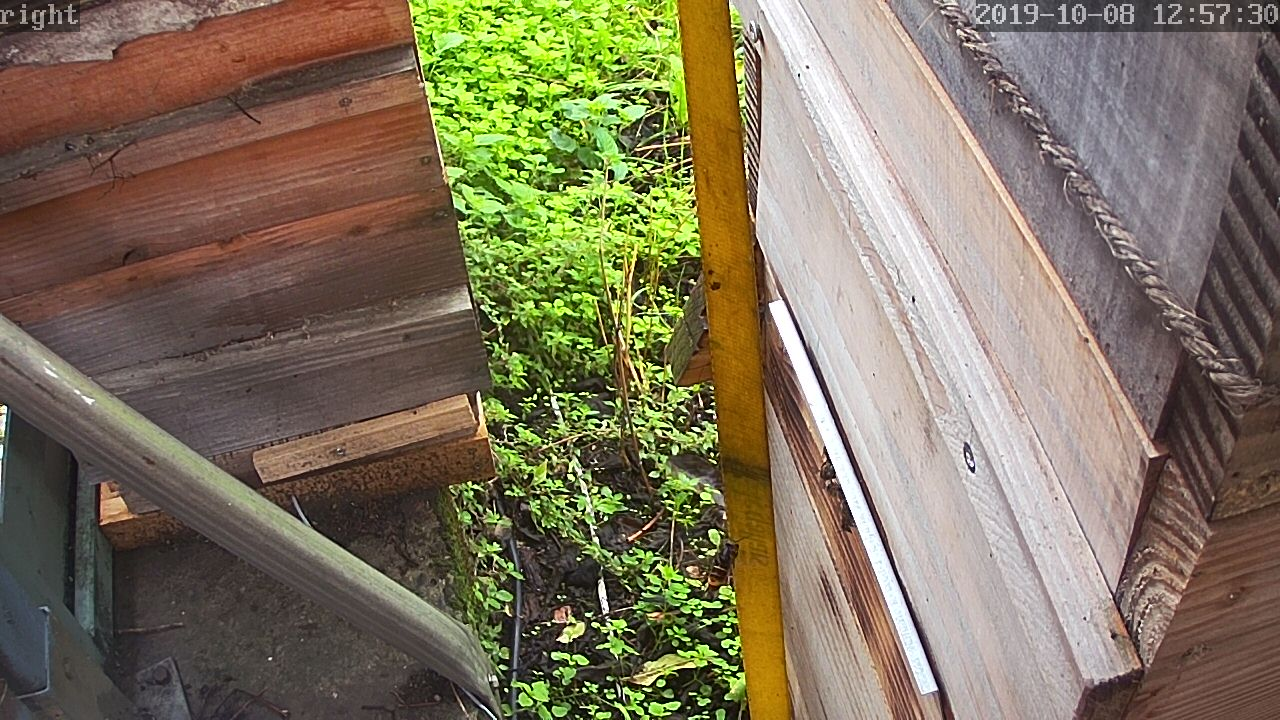bee: (826, 503, 863, 543), (816, 460, 846, 500)
hornet: (700, 533, 741, 598)
